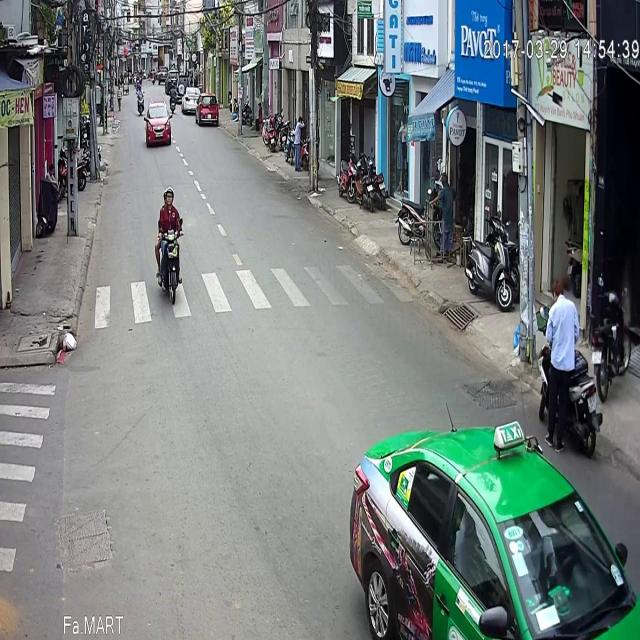car: (348, 361, 640, 609), (142, 42, 172, 89), (196, 34, 218, 68)
motorcycle: (153, 128, 183, 244)
